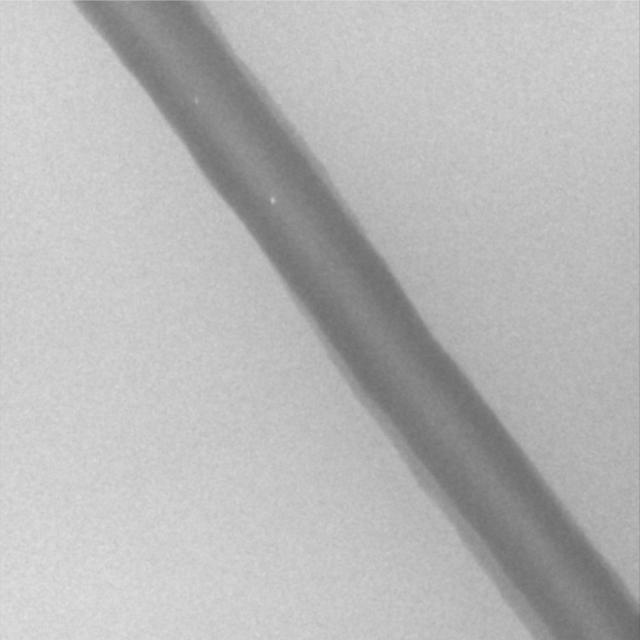air hole: (269, 196, 277, 205), (193, 98, 200, 106)
